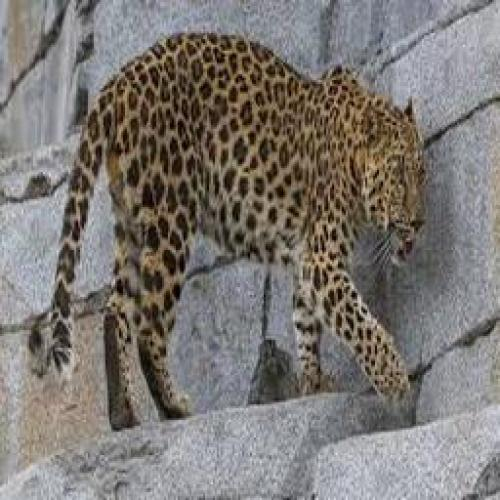amur_leopard-endangered: (30, 32, 430, 432)
